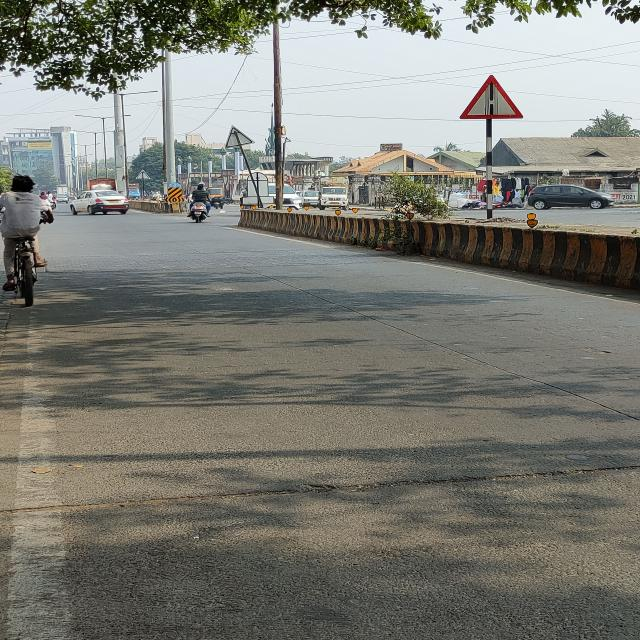ferry: (460, 74, 526, 119)
